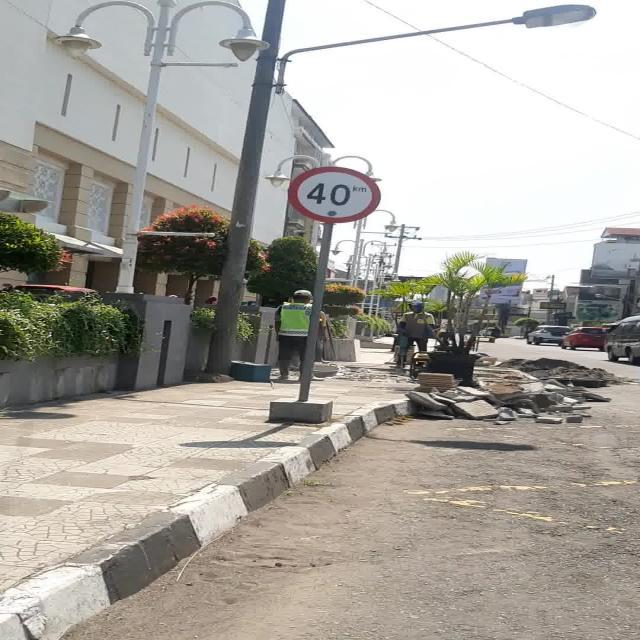Kecepatan Maks. 40 km: (288, 167, 380, 224)
